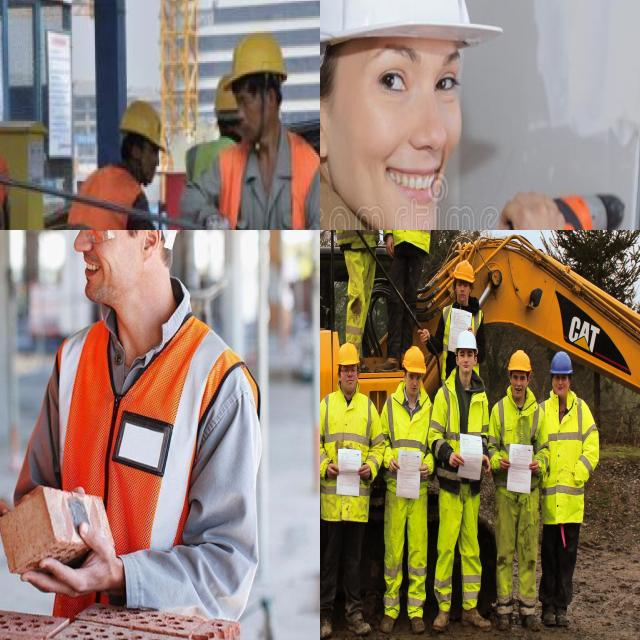No_Ear-Protection: (320, 76, 332, 169), (141, 230, 162, 264)
No_Glasses: (358, 41, 468, 111)
face_nomask: (69, 230, 148, 315), (234, 93, 272, 144), (127, 140, 162, 183), (506, 371, 532, 403), (338, 366, 360, 397), (454, 346, 478, 374), (549, 374, 572, 398), (402, 372, 424, 392)
glasses: (72, 230, 122, 246), (342, 366, 358, 376)
hand_glove: (205, 205, 234, 230)
hand_noglove: (26, 526, 128, 607), (526, 455, 543, 480), (360, 459, 373, 490), (324, 459, 339, 484), (387, 453, 402, 477), (444, 453, 466, 469), (496, 456, 516, 472), (416, 463, 431, 482)
head_helmet: (219, 26, 296, 86), (117, 100, 164, 148), (210, 68, 241, 112), (401, 346, 426, 374), (454, 329, 478, 358), (337, 342, 360, 368), (508, 350, 532, 374), (550, 350, 573, 374), (452, 260, 475, 284)
person: (14, 230, 265, 621), (213, 25, 320, 230), (432, 334, 493, 636), (320, 340, 380, 640), (540, 352, 602, 627), (488, 350, 546, 633), (44, 98, 168, 230), (380, 345, 432, 636), (189, 79, 253, 230), (377, 230, 444, 372), (323, 230, 383, 356), (445, 261, 486, 348), (343, 605, 372, 638), (320, 605, 333, 640)
shoes: (458, 604, 492, 634), (493, 605, 514, 638), (406, 606, 426, 636), (380, 606, 400, 636), (431, 606, 451, 634), (553, 607, 574, 631), (521, 612, 542, 634), (542, 606, 556, 630)
vest: (51, 308, 241, 598), (216, 143, 320, 230), (320, 388, 379, 526), (538, 392, 597, 528), (45, 169, 147, 230), (434, 376, 488, 482), (489, 386, 548, 479), (384, 381, 432, 481), (439, 304, 482, 354)
